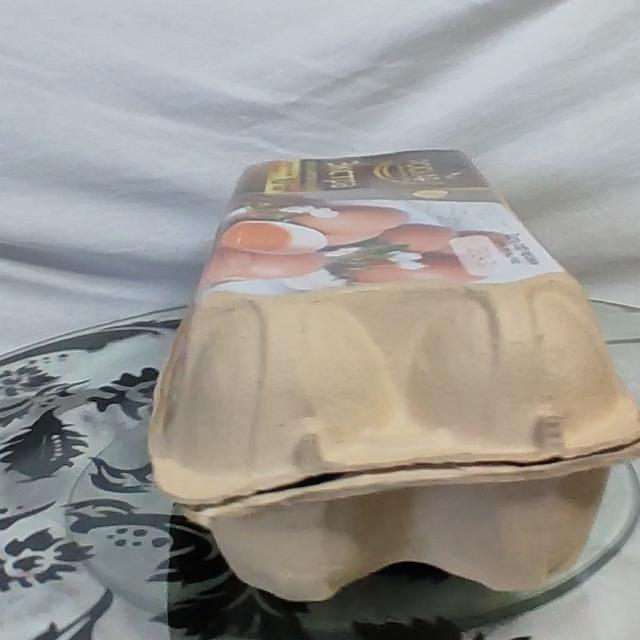egg: (110, 123, 640, 628)
